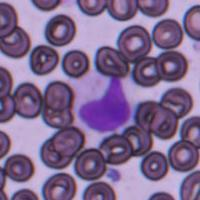M: (76, 72, 131, 133)
